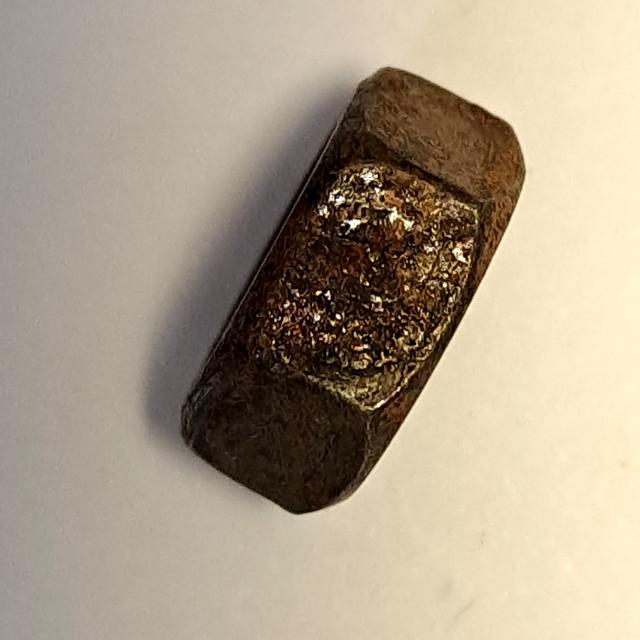Side_Rust: (169, 51, 535, 525)
